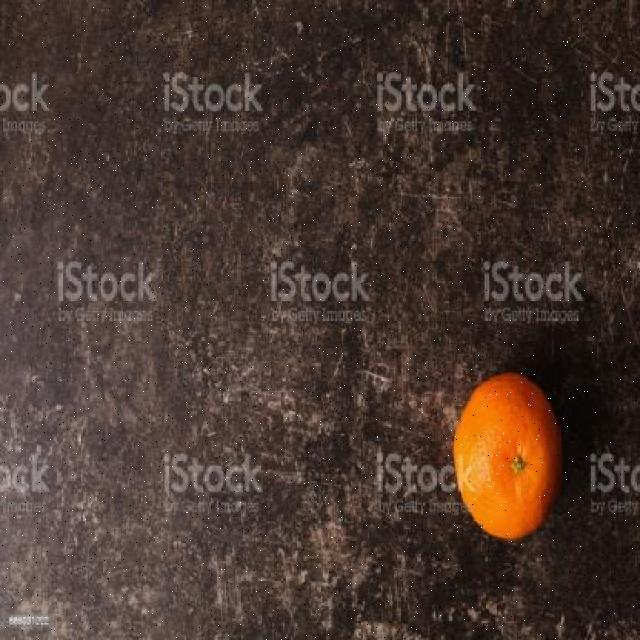Orange: (451, 369, 562, 540)
